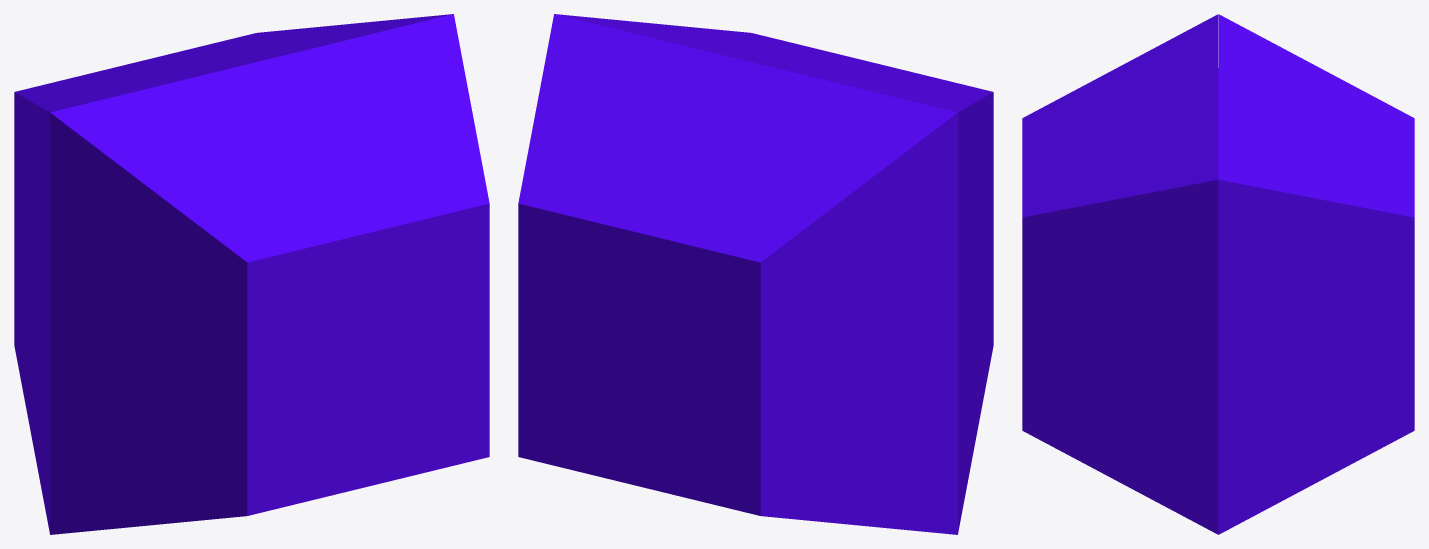
The model's file is output_omnidirectional.glb.
3 renders of one model, left to right at view 1: azimuth 30°, elevation 25°; view 2: azimuth 150°, elevation 25°; view 3: azimuth 270°, elevation 25°, orthographic. The views are drawn at different scales.
Visible parts, largest first — view 1: output_omni; view 2: output_omni; view 3: output_omni.
Part boxes in pixels (x1,y1,x2,y2): output_omni: (14,14,489,534); output_omni: (518,14,993,534); output_omni: (1022,14,1414,534).
Bounding box in the file's own units: 0.6 × 0.6 × 0.6.
